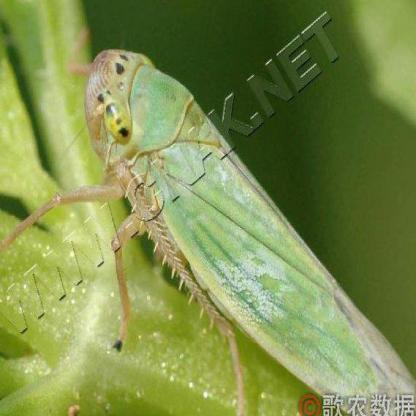Green-Leafhopper: (8, 29, 416, 416)
